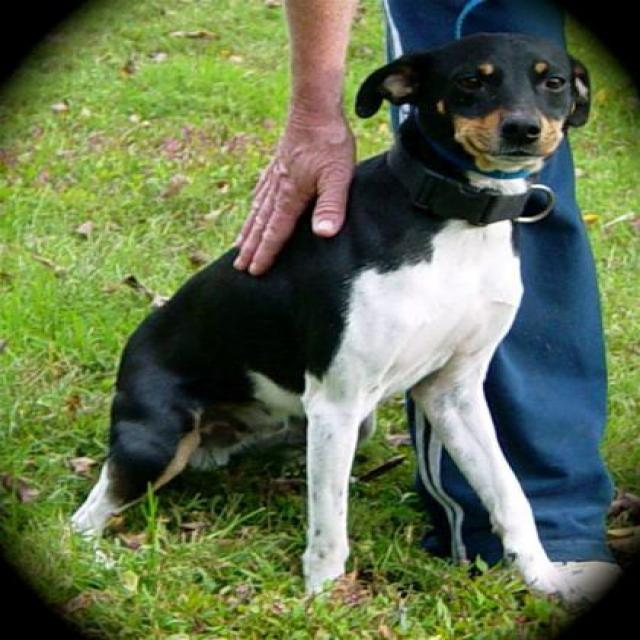Dogs: (64, 29, 620, 610)
